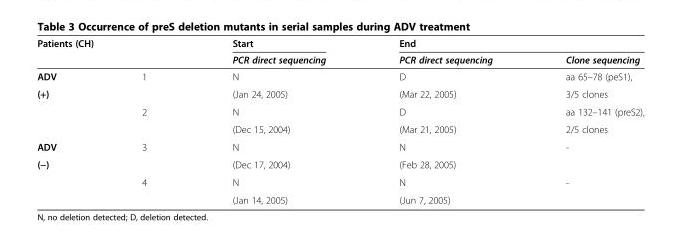table: (36, 37, 643, 205)
table column: (188, 37, 361, 205), (361, 37, 528, 205), (528, 37, 643, 205), (98, 37, 188, 205), (36, 37, 98, 205)
table column header: (36, 37, 643, 67)
table row: (36, 84, 643, 102), (36, 102, 643, 120), (36, 137, 643, 155), (36, 155, 643, 173), (36, 67, 643, 84), (36, 120, 643, 137), (36, 173, 643, 190), (36, 51, 643, 67), (36, 190, 643, 205), (36, 37, 643, 51)
table spanning cell: (188, 37, 361, 67), (528, 137, 643, 173), (361, 37, 643, 51), (36, 84, 98, 137), (98, 137, 188, 173), (98, 67, 188, 102), (98, 102, 188, 137), (36, 155, 98, 205), (36, 37, 188, 51)
